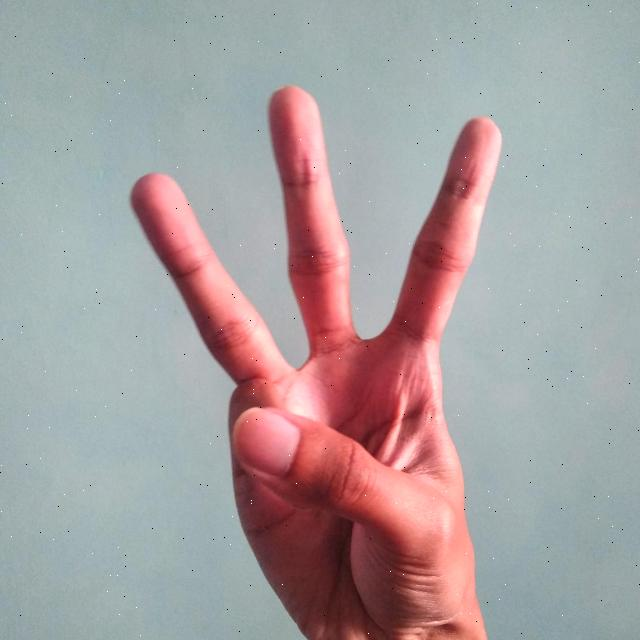W: (117, 78, 512, 640)
